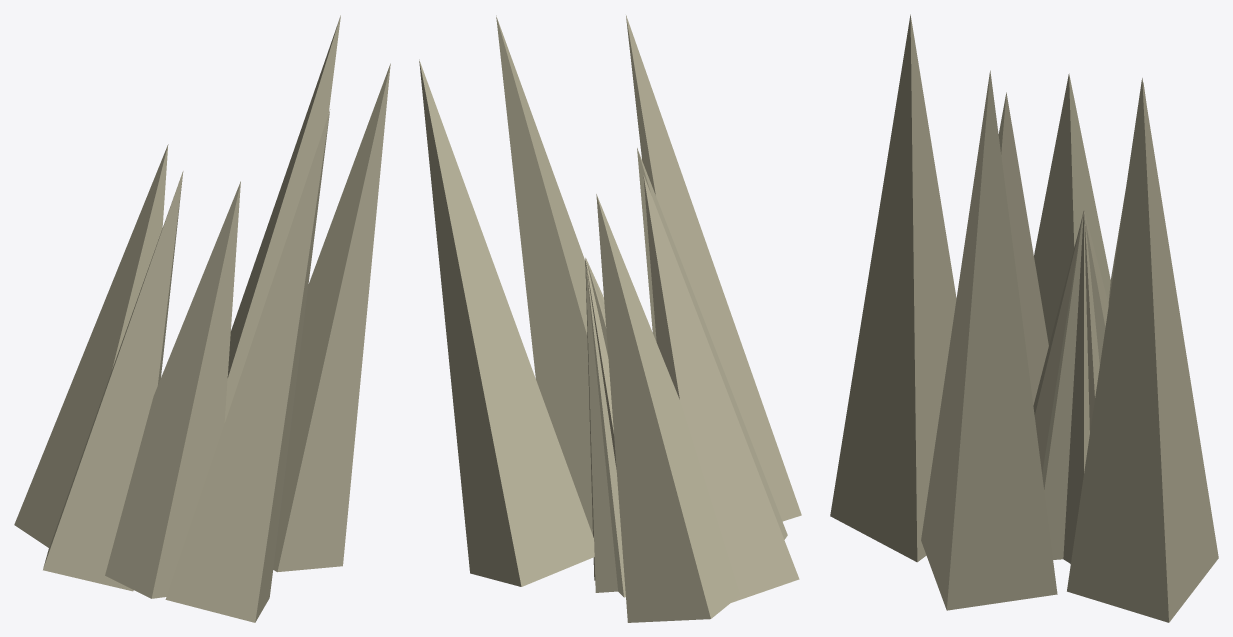
Rendered from foliage_grass_dry.glb.
The picture shows the model from 3 angles, left to right: view 1: azimuth 30°, elevation 25°; view 2: azimuth 150°, elevation 25°; view 3: azimuth 270°, elevation 25°; orthographic projection. The views are drawn at different scales.
Visible parts, largest first — view 1: scenery_dry; view 2: scenery_dry; view 3: scenery_dry.
Boxes of the visible parts, x1=… form: scenery_dry: x1=14, y1=15, x2=390, y2=622; scenery_dry: x1=419, y1=15, x2=801, y2=622; scenery_dry: x1=830, y1=14, x2=1218, y2=622.
Size of the model in its own units: 0.7028 by 0.9655 by 0.58.
